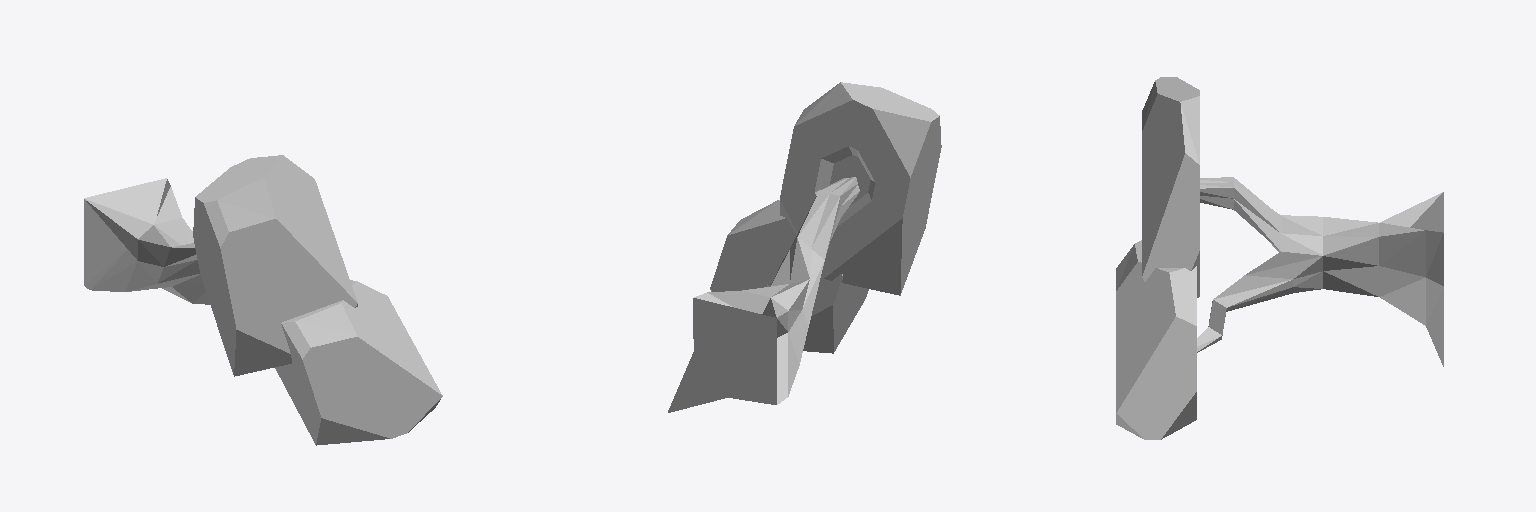
File: three_1.obj
3 views of the same model, side by side, from view 1: azimuth 30°, elevation 25°; view 2: azimuth 150°, elevation 25°; view 3: azimuth 270°, elevation 25° (orthographic).
Parts seen in each view (by area): view 1: Cube.474_Cube.475; view 2: Cube.474_Cube.475; view 3: Cube.474_Cube.475.
Part boxes in pixels (x1,y1,x2,y2): Cube.474_Cube.475: (84,155,442,445); Cube.474_Cube.475: (668,82,941,412); Cube.474_Cube.475: (1116,77,1443,439).
Bounding box in the file's own units: 7.85 × 9.55 × 9.91.